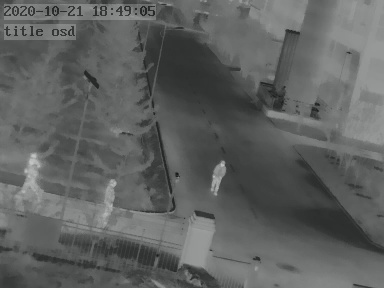person: (17, 152, 43, 199), (99, 175, 120, 224), (209, 156, 224, 195)
